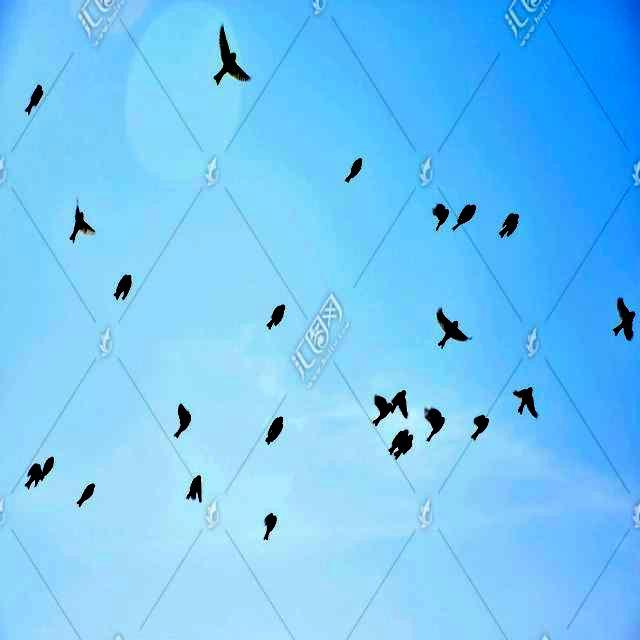bird: (215, 33, 247, 84), (388, 422, 419, 464), (613, 302, 639, 341), (436, 313, 466, 346), (69, 208, 92, 244), (424, 408, 446, 443), (371, 394, 393, 428), (22, 85, 44, 116), (262, 417, 285, 446), (516, 389, 538, 419), (393, 385, 411, 418), (174, 406, 192, 438), (112, 276, 134, 302), (455, 203, 477, 227), (470, 416, 491, 441), (344, 159, 364, 184), (266, 306, 286, 331), (184, 477, 202, 504), (500, 214, 520, 238), (76, 483, 94, 509), (262, 514, 278, 542), (26, 464, 42, 492), (433, 206, 450, 230), (42, 456, 56, 482)
